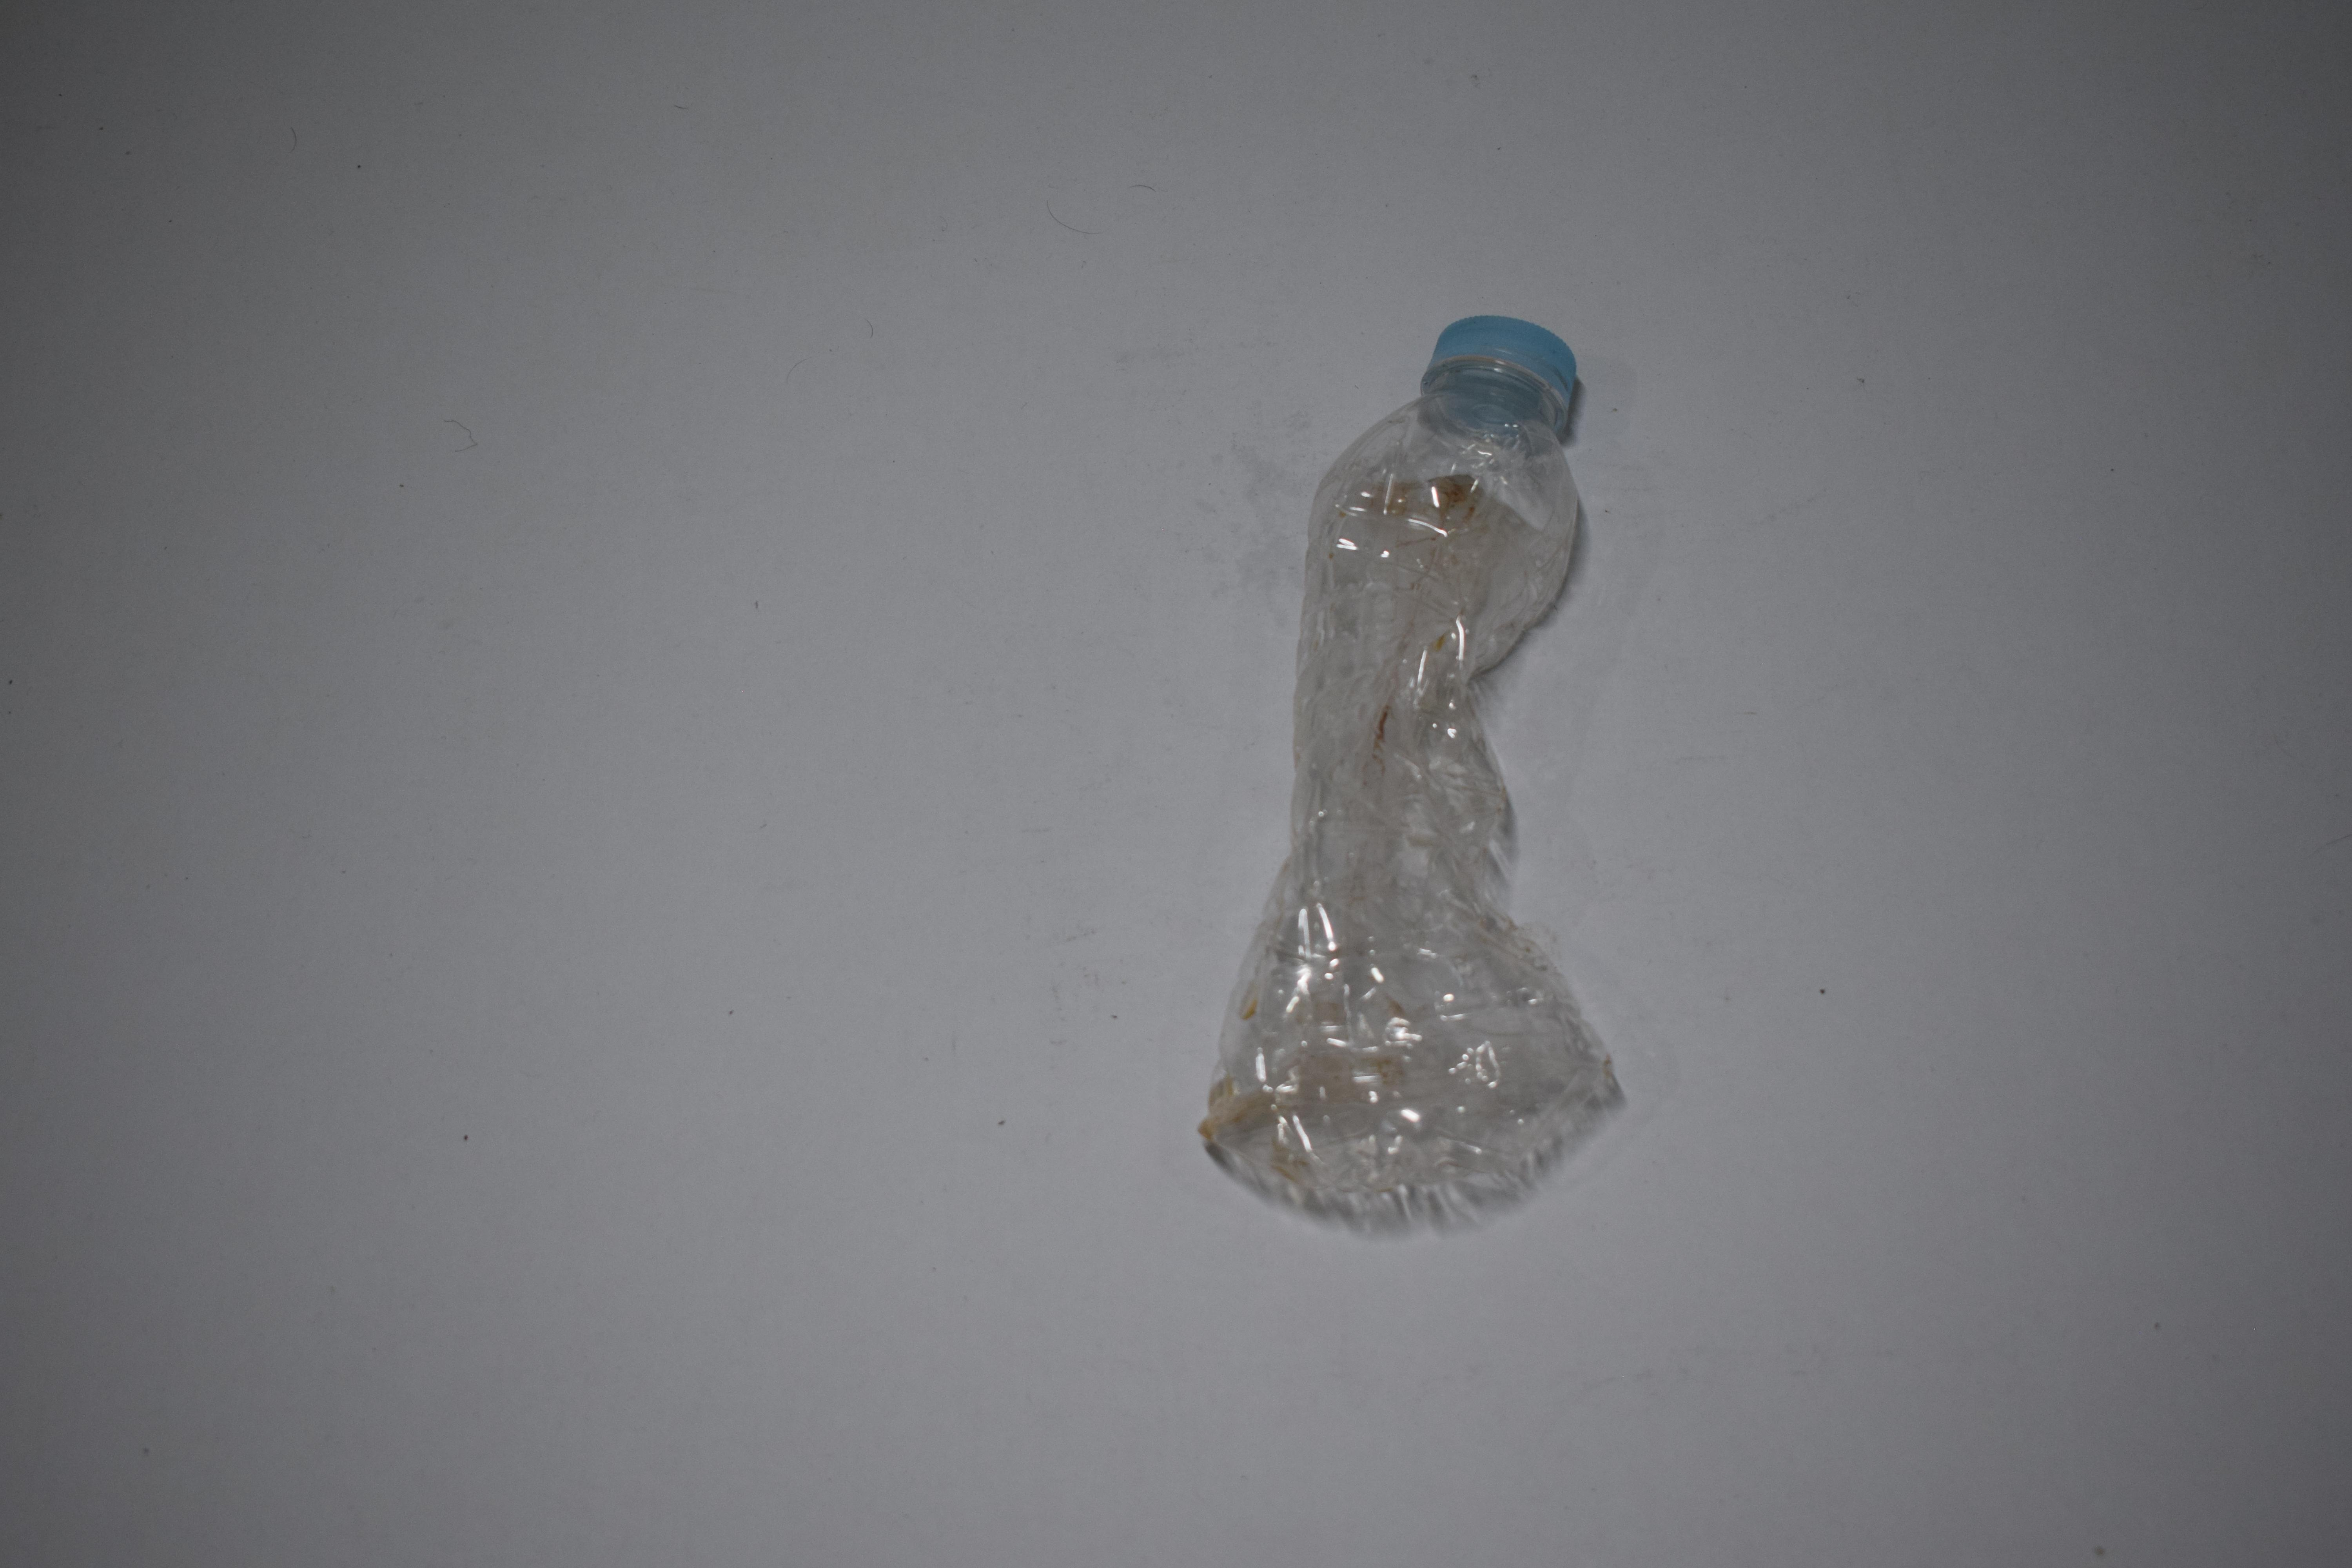bottle: (12, 695, 455, 838)
